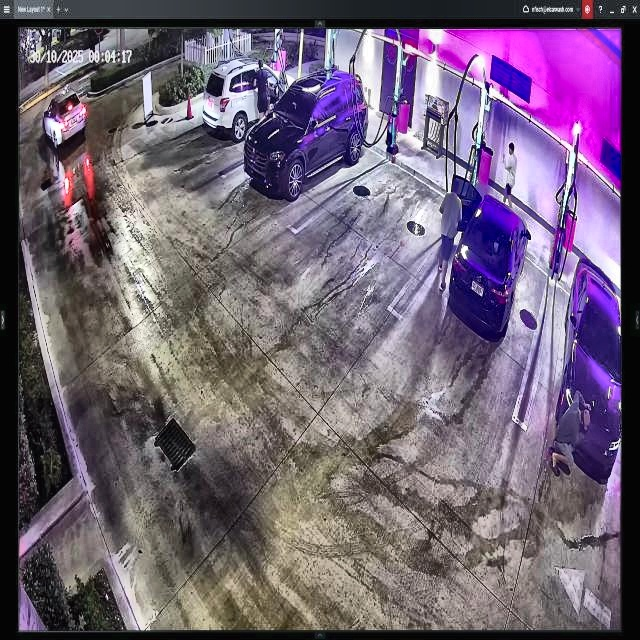Car: (243, 64, 369, 195), (450, 175, 530, 338)
